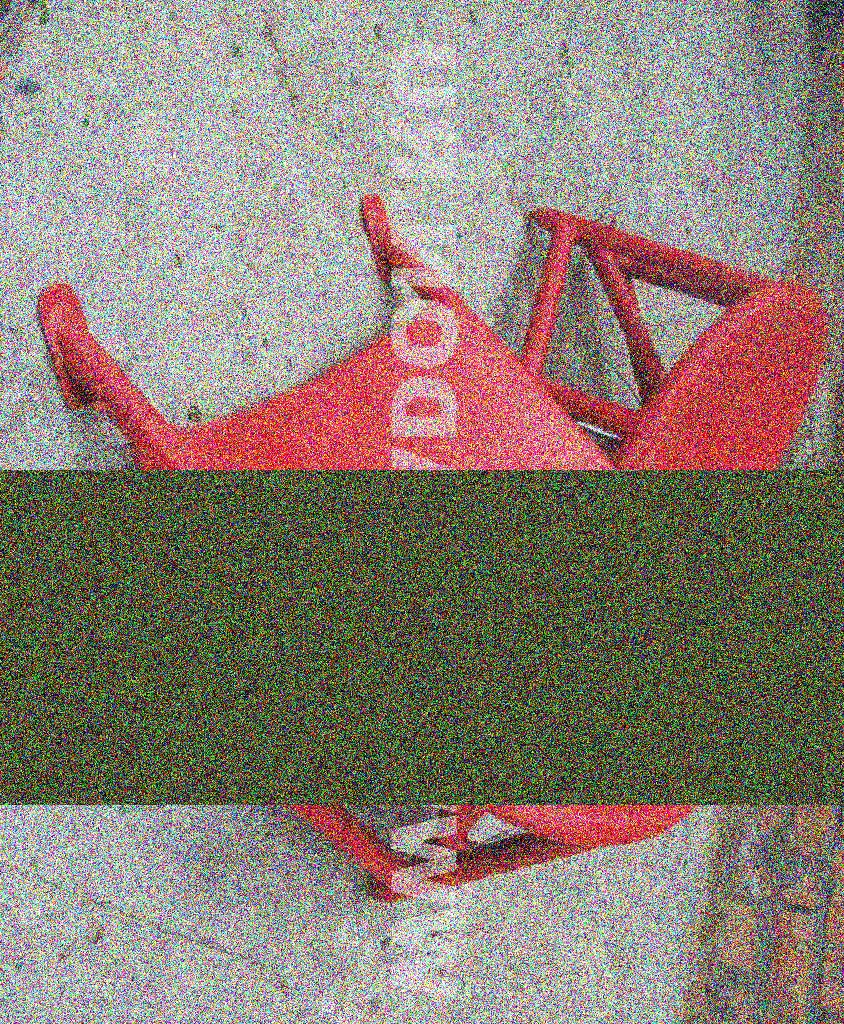chock: (42, 192, 728, 906), (532, 198, 830, 580)
